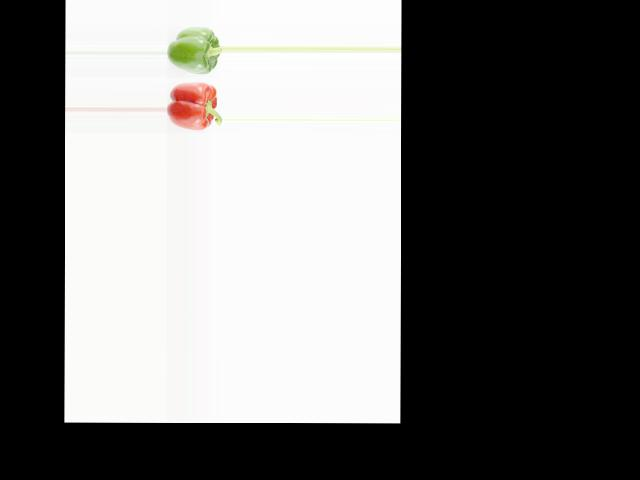bell_pepper: (169, 25, 221, 76)
